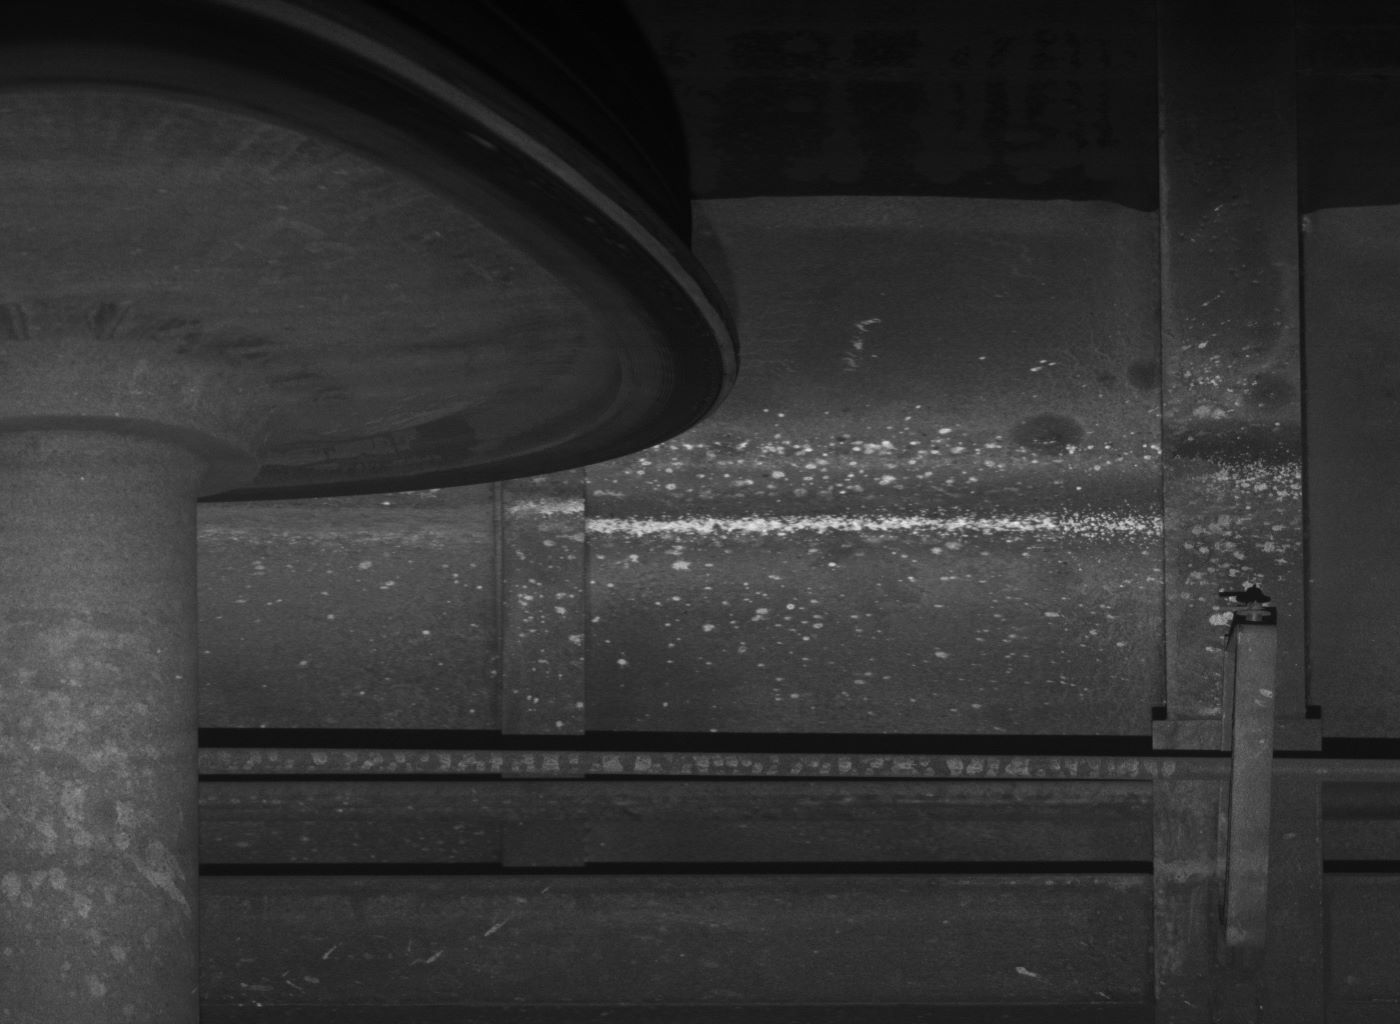normal: (1222, 602, 1278, 949)
